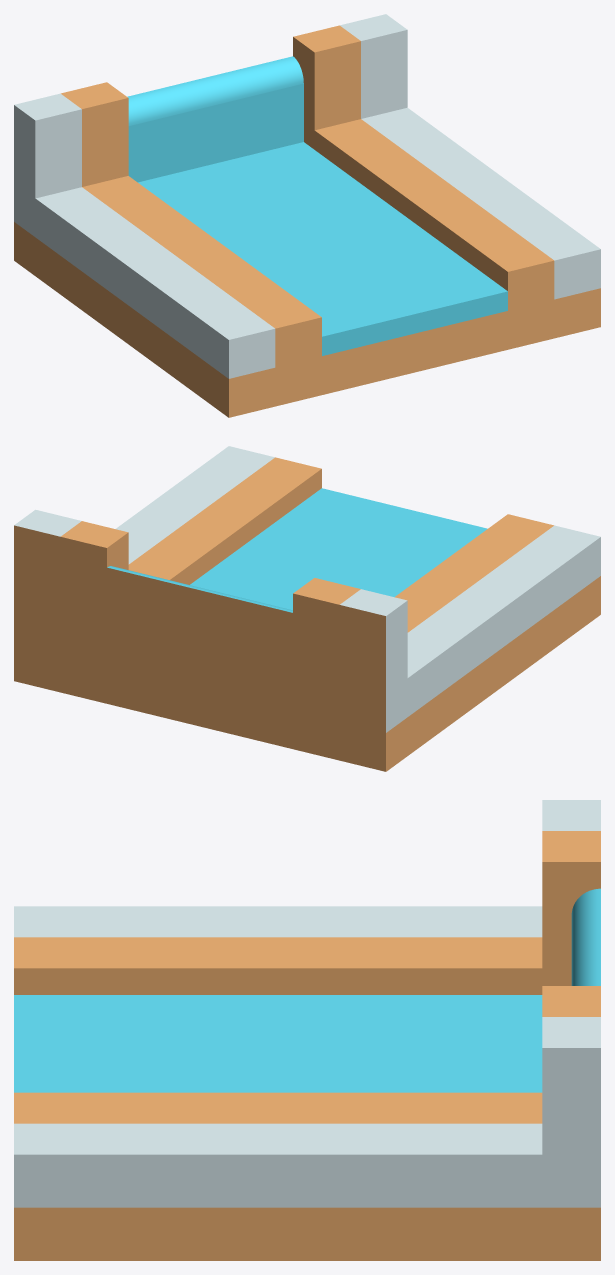
File: snowTileRiverFall.fbx
3 views of the same model, one above another, from view 1: azimuth 30°, elevation 25°; view 2: azimuth 150°, elevation 25°; view 3: azimuth 270°, elevation 25° (orthographic). The views are drawn at different scales.
Parts seen in each view (by area): view 1: snow_tile_riverFall; view 2: snow_tile_riverFall; view 3: snow_tile_riverFall.
Part boxes in pixels (bbox=[...]): snow_tile_riverFall: bbox=[14, 14, 600, 417]; snow_tile_riverFall: bbox=[14, 446, 600, 771]; snow_tile_riverFall: bbox=[14, 800, 600, 1260].
Bounding box in the file's own units: 39.37 × 15.75 × 39.37.
